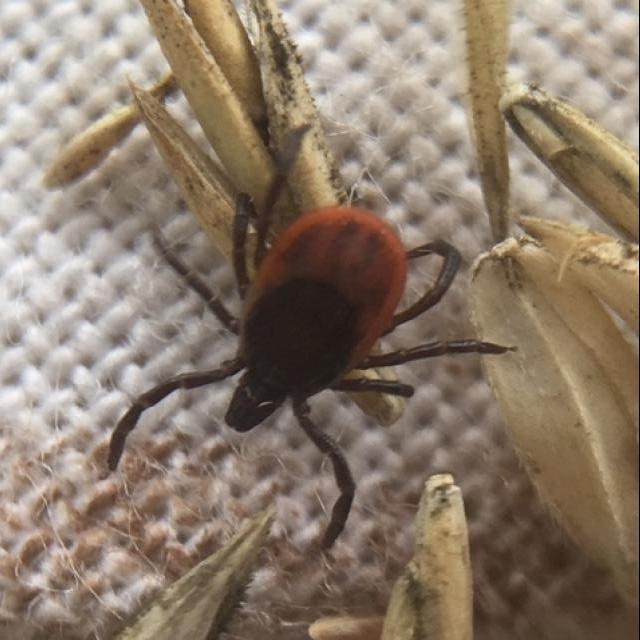Ixodes Ricinus-F: (108, 122, 509, 553)
